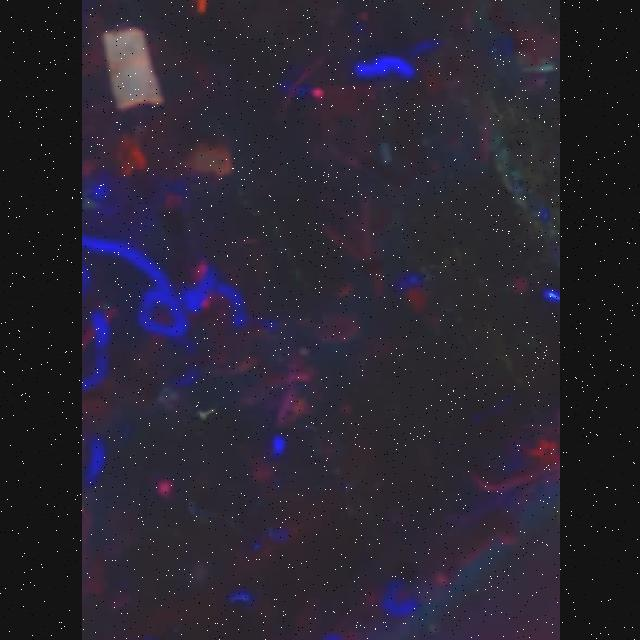Fragment: (100, 28, 162, 110)
